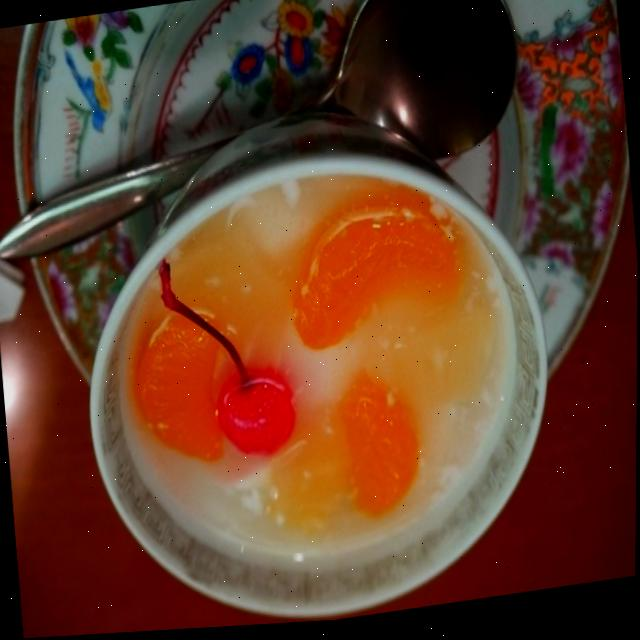汤锅炖物: (0, 175, 179, 455)
